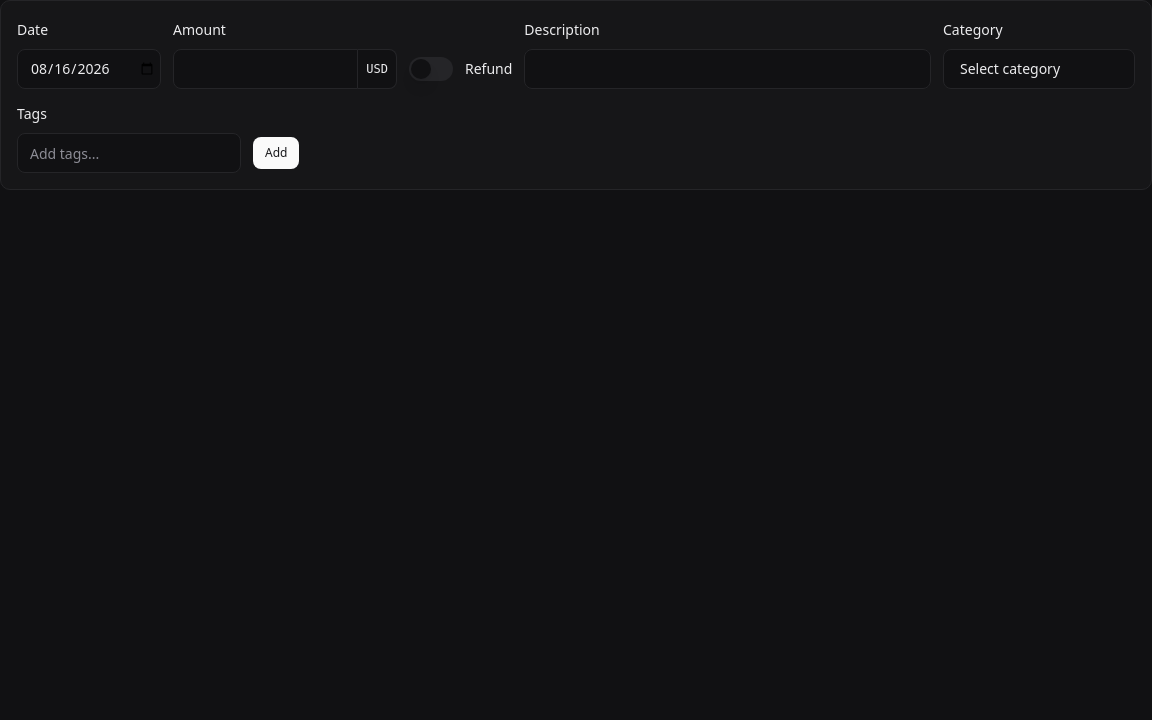
Test case: TransactionEntryRow › refund toggle › _LabelFollowsTheSelectedCategory: an income row says Reversal
Click the button "Select category" at (1039, 69), box [943,49,1135,89]
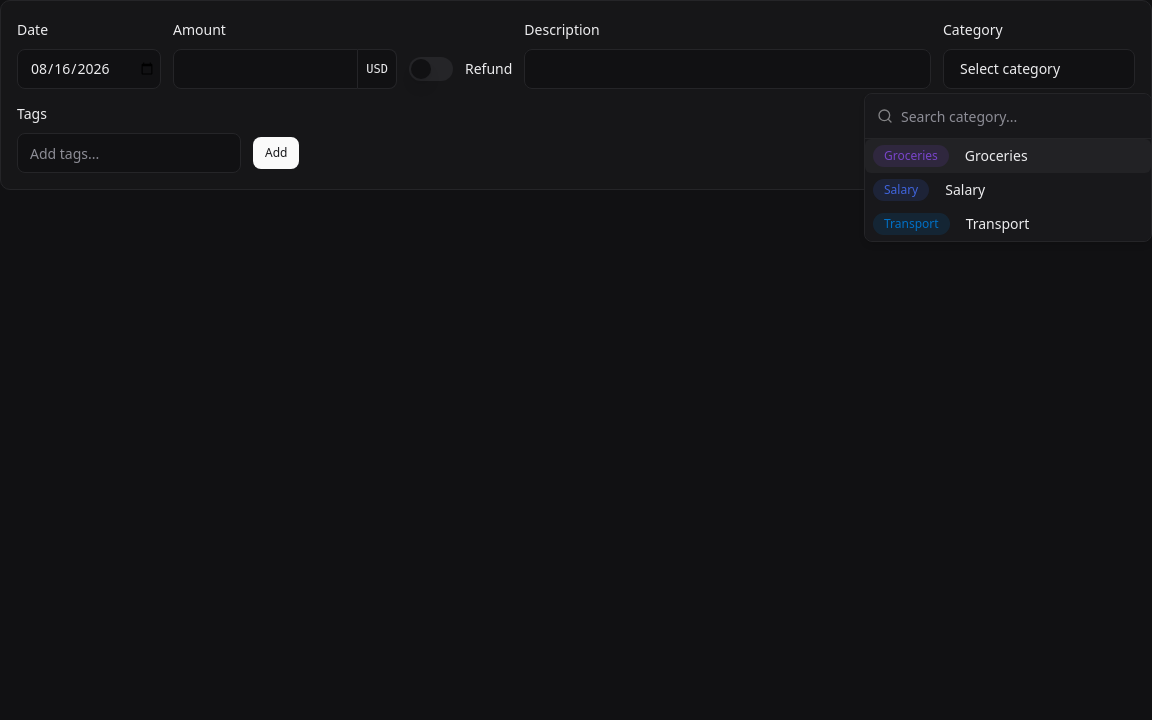
Click the option "Salary Salary" at (929, 190), box [873,179,985,201]
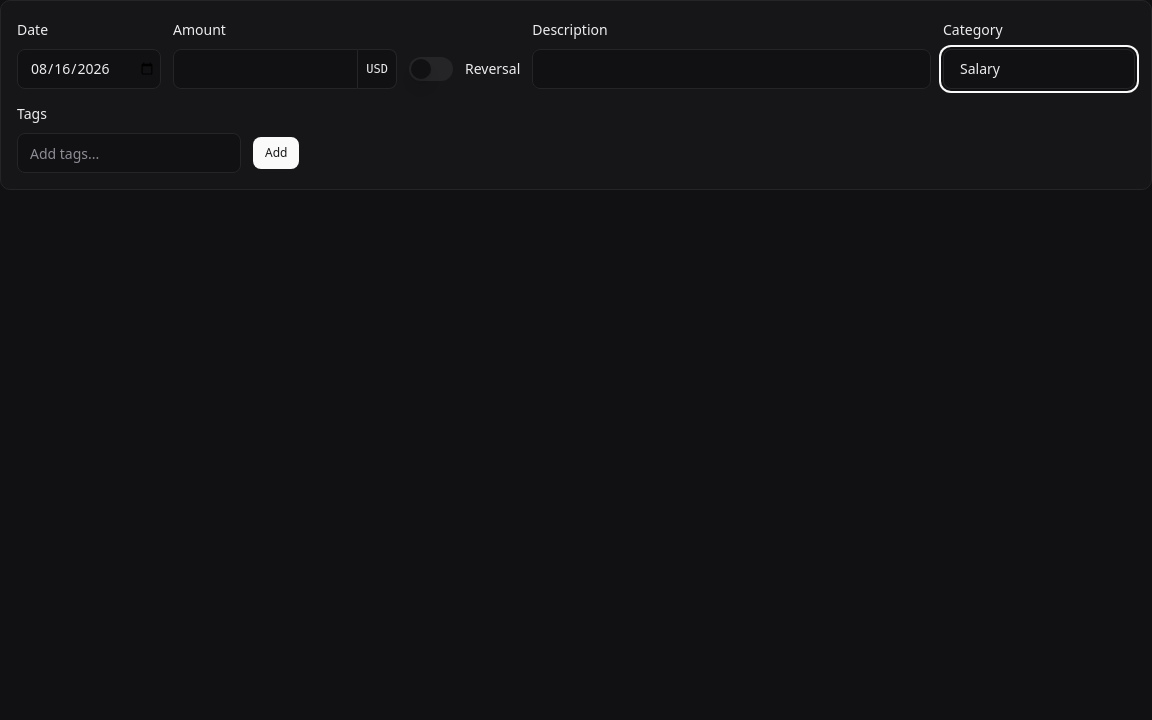
Expected: the text "Refund" is gone
